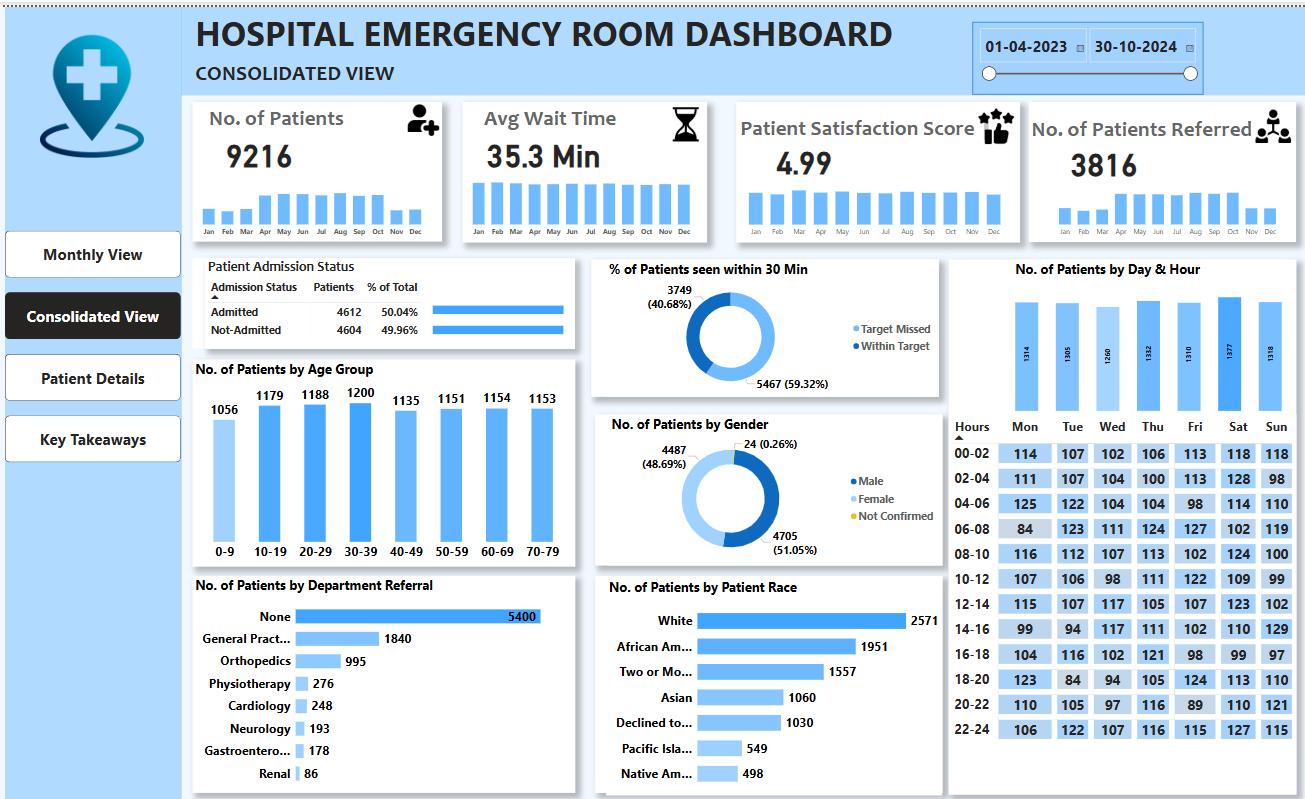

Layout of this report page (visuals, bound fields, positions):
{"tool":"powerbi","page":{"name":"Consolidated View","canvas":[2300,1400],"ordinal":1},"visuals":[{"type":"textbox","box":[337.8,166.7,437.8,244.4],"z":0},{"type":"shape","box":[9.5,0,310,1400.5],"z":1000},{"type":"shape","box":[318.6,0,1980.6,155],"z":2000},{"type":"textbox","box":[337.6,0,1241.2,88],"z":3000},{"type":"textbox","box":[337,88.1,373.3,64.8],"z":4000},{"type":"card","fields":{"Values":["Hospital ER_Data.No. of Patients"]},"box":[361.4,221.1,185.5,66.6],"z":5000},{"type":"slicer","fields":{"Values":["Date Table.Date"]},"box":[1705.8,25.9,404.4,127],"z":6000},{"type":"textbox","box":[361.4,166.4,285.3,59.4],"z":7000},{"type":"columnChart","fields":{"Category":["Date Table.Month Name"],"Y":["Hospital ER_Data.No. of Patients"]},"box":[337,287.8,420,124.4],"z":8000},{"type":"textbox","box":[811.1,166.7,428.9,246.7],"z":9000},{"type":"card","fields":{"Values":["Hospital ER_Data.Avg Wait Time"]},"box":[844.1,221.1,218.8,66.6],"z":10000},{"type":"textbox","box":[843.2,166.9,285.3,59.4],"z":11000},{"type":"columnChart","fields":{"Y":["Avg(Hospital ER_Data.Patient Waittime)"],"Category":["Date Table.Month Name"]},"box":[811.4,287.8,417.4,124.4],"z":12000},{"type":"textbox","box":[1291,165.9,497.8,246.3],"z":13000},{"type":"card","fields":{"Values":["Hospital ER_Data.Satisfaction Score"]},"box":[1317.3,233.5,185.5,66.6],"z":14000},{"type":"textbox","box":[1293.5,183.1,444.6,54.7],"z":15000},{"type":"columnChart","fields":{"Category":["Date Table.Month Name"],"Y":["Hospital ER_Data.Satisfaction Score"]},"box":[1293.6,300.7,482.2,111.5],"z":16000},{"type":"textbox","box":[1803.7,166.6,469,245.5],"z":17000},{"type":"card","fields":{"Values":["Hospital ER_Data.No. of Patients Referred"]},"box":[1842.8,235.9,185.5,66.6],"z":18000},{"type":"textbox","box":[1803.7,186.3,407.6,59.2],"z":19000},{"type":"columnChart","fields":{"Y":["Hospital ER_Data.No. of Patients Referred"],"Category":["Date Table.Month Name"]},"box":[1838.1,287.8,417.4,124.4],"z":20000},{"type":"shape","box":[337,440.7,674,158.1],"z":21000},{"type":"pivotTable","title":"Patient Admission Status","fields":{"Rows":["Hospital ER_Data.Admission Status"],"Values":["Hospital ER_Data.No. of Patients1","Hospital ER_Data.No. of Patients"]},"box":[360.4,440.7,648.1,158.1],"z":22000},{"type":"barChart","fields":{"Category":["Hospital ER_Data.Admission Status"],"Y":["Hospital ER_Data.No. of Patients"]},"box":[754.4,492.6,308.5,106.3],"z":23000},{"type":"columnChart","fields":{"Category":["Hospital ER_Data.Age Group"],"Y":["Hospital ER_Data.No. of Patients"]},"box":[337,617,671.4,362.9],"z":24000},{"type":"clusteredBarChart","fields":{"Category":["Hospital ER_Data.Department Referral"],"Y":["Hospital ER_Data.No. of Patients"]},"box":[337,998.1,671.4,381.1],"z":25000},{"type":"shape","box":[1037,443.3,609.2,241.1],"z":26000},{"type":"donutChart","title":"% of Patients seen within 30 Min","fields":{"Category":["Hospital ER_Data.WaitTime Status"],"Y":["Hospital ER_Data.No. of Patients"]},"box":[1062.9,443.3,583.3,241.1],"z":27000},{"type":"shape","box":[1042.2,715.5,609.2,264.4],"z":28000},{"type":"donutChart","title":"No. of Patients by Gender","fields":{"Y":["Hospital ER_Data.No. of Patients"],"Category":["Hospital ER_Data.Patient Gender"]},"box":[1068.1,715.5,583.3,264.4],"z":29000},{"type":"shape","box":[1042.2,998.1,609.2,381.1],"z":30000},{"type":"clusteredBarChart","fields":{"Y":["Hospital ER_Data.No. of Patients"],"Category":["Hospital ER_Data.Patient Race"]},"box":[1062.9,1000.7,588.5,381.1],"z":31000},{"type":"shape","box":[1664.4,443.3,609.2,938.5],"z":32000},{"type":"pivotTable","fields":{"Rows":["Hospital ER_Data.Waittime Interval"],"Columns":["Date Table.Day Name"],"Values":["Hospital ER_Data.No. of Patients"]},"box":[1664.4,715.5,609.2,663.7],"z":33000},{"type":"columnChart","title":"No. of Patients by Day & Hour","fields":{"Category":["Date Table.Day Name"],"Y":["Hospital ER_Data.No. of Patients"]},"box":[1775.2,442.7,480,271.8],"z":34000},{"type":"image","box":[710.3,163.3,64.8,67.4],"z":35000},{"type":"image","box":[1166.6,171.1,72.6,70],"z":36000},{"type":"image","box":[1705.8,173.7,83,72.6],"z":37000},{"type":"image","box":[2191.6,173.1,81.1,72.3],"z":38000},{"type":"image","box":[46.7,44.1,230.7,225.5],"z":39000},{"type":"pageNavigator","box":[7.8,391.5,308.5,407],"z":40000}]}

Visuals, with their boxes in screenshot pixels (x1, y1, x2, y2), scaled from the page's 2300x1400 canvas onto the 1305x799 screenshot:
textbox: BBox(192, 95, 440, 235)
shape: BBox(5, 0, 181, 798)
shape: BBox(181, 0, 1304, 88)
textbox: BBox(192, 0, 896, 50)
textbox: BBox(191, 50, 403, 87)
card - Hospital ER_Data.No. of Patients: BBox(205, 126, 310, 164)
slicer - Date Table.Date: BBox(968, 15, 1197, 87)
textbox: BBox(205, 95, 367, 129)
columnChart - Date Table.Month Name x Hospital ER_Data.No. of Patients: BBox(191, 164, 430, 235)
textbox: BBox(460, 95, 704, 236)
card - Hospital ER_Data.Avg Wait Time: BBox(479, 126, 603, 164)
textbox: BBox(478, 95, 640, 129)
columnChart - Avg(Hospital ER_Data.Patient Waittime) x Date Table.Month Name: BBox(460, 164, 697, 235)
textbox: BBox(733, 95, 1015, 235)
card - Hospital ER_Data.Satisfaction Score: BBox(747, 133, 853, 171)
textbox: BBox(734, 104, 986, 136)
columnChart - Date Table.Month Name x Hospital ER_Data.Satisfaction Score: BBox(734, 172, 1008, 235)
textbox: BBox(1023, 95, 1290, 235)
card - Hospital ER_Data.No. of Patients Referred: BBox(1046, 135, 1151, 173)
textbox: BBox(1023, 106, 1255, 140)
columnChart - Hospital ER_Data.No. of Patients Referred x Date Table.Month Name: BBox(1043, 164, 1280, 235)
shape: BBox(191, 252, 574, 342)
"Patient Admission Status" pivotTable: BBox(204, 252, 572, 342)
barChart - Hospital ER_Data.Admission Status x Hospital ER_Data.No. of Patients: BBox(428, 281, 603, 342)
columnChart - Hospital ER_Data.Age Group x Hospital ER_Data.No. of Patients: BBox(191, 352, 572, 559)
clusteredBarChart - Hospital ER_Data.Department Referral x Hospital ER_Data.No. of Patients: BBox(191, 570, 572, 787)
shape: BBox(588, 253, 934, 391)
"% of Patients seen within 30 Min" donutChart: BBox(603, 253, 934, 391)
shape: BBox(591, 408, 937, 559)
"No. of Patients by Gender" donutChart: BBox(606, 408, 937, 559)
shape: BBox(591, 570, 937, 787)
clusteredBarChart - Hospital ER_Data.No. of Patients x Hospital ER_Data.Patient Race: BBox(603, 571, 937, 789)
shape: BBox(944, 253, 1290, 789)
pivotTable - Hospital ER_Data.Waittime Interval x Date Table.Day Name: BBox(944, 408, 1290, 787)
"No. of Patients by Day & Hour" columnChart: BBox(1007, 253, 1280, 408)
image: BBox(403, 93, 440, 132)
image: BBox(662, 98, 703, 138)
image: BBox(968, 99, 1015, 141)
image: BBox(1243, 99, 1290, 140)
image: BBox(26, 25, 157, 154)
pageNavigator: BBox(4, 223, 179, 456)
